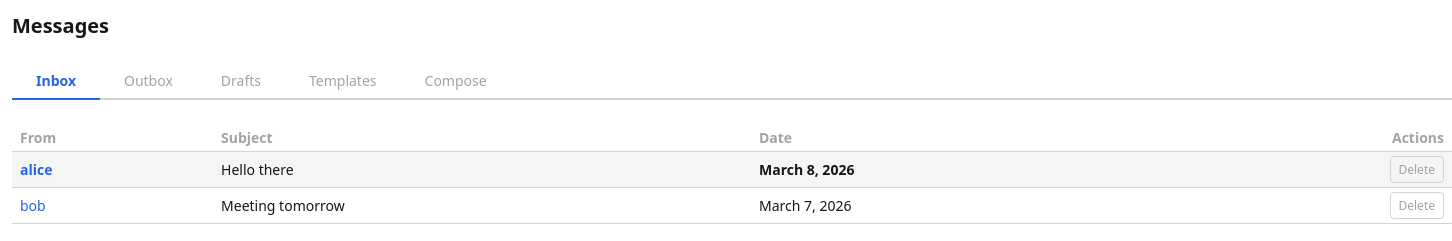
it: MessagesPage drafts & templates (BE-7.2) › lists saved drafts with recipient and subject
Click the button "Drafts" at (241, 82), box [197,63,285,100]
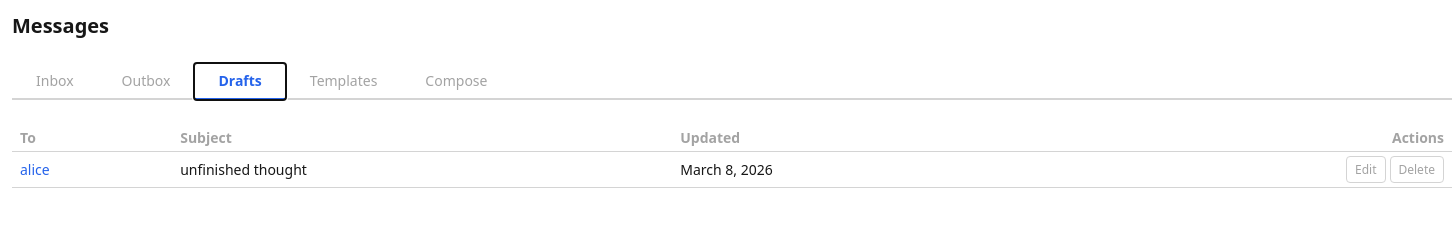
Expected: the link "alice" is shown, [20,160,50,179]
Expected: the button "unfinished thought" is shown, [180,160,307,179]
